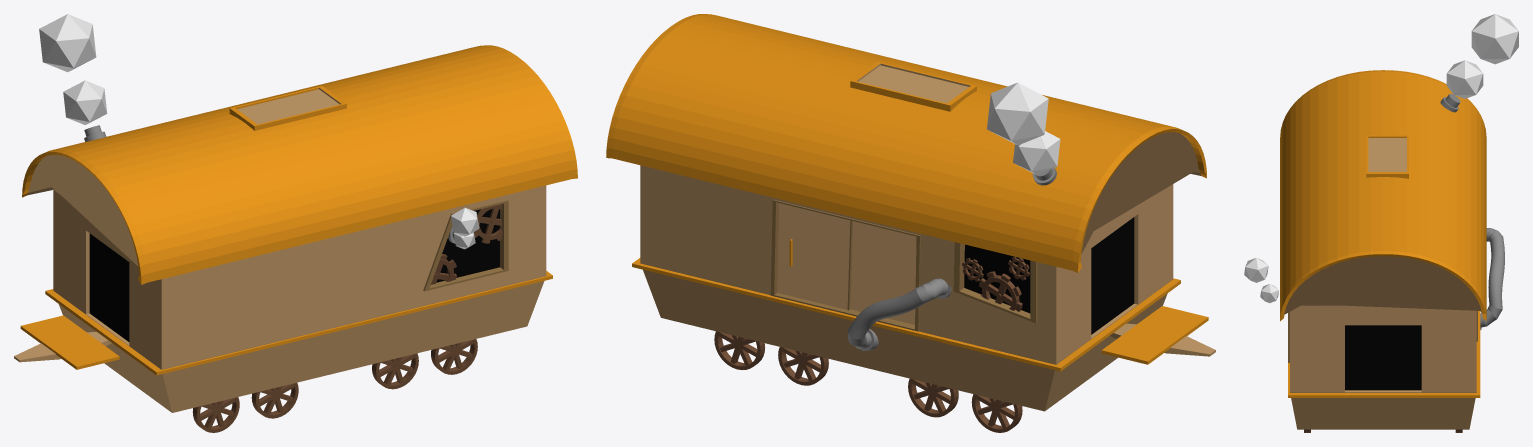
File: Train_car_2.fbx
The picture shows the model from 3 angles, left to right: view 1: azimuth 30°, elevation 25°; view 2: azimuth 150°, elevation 25°; view 3: azimuth 270°, elevation 25°; orthographic projection. The views are drawn at different scales.
Visible parts, largest first — view 1: Cube.007, Cube.028, Cube.025, Cube.013, Icosphere.015, Icosphere.014, Cylinder.069, Cylinder.021, Cylinder.066, Cylinder.063, Cube.014, Cylinder.051 (+1 smaller); view 2: Cube.007, Cube.028, Cube.025, Cube.013, Icosphere.015, Cylinder.109, Icosphere.014, Cylinder.062, Cylinder.067, Cylinder.068, Cylinder.061, Cylinder.087 (+1 smaller); view 3: Cube.007, Icosphere.015, Cube.025, Cylinder.109, Cube.028, Icosphere.014, Icosphere.008, Icosphere.009.
Boxes of the visible parts, bbox=[...] form: Cube.007: bbox=[22, 45, 577, 412]; Cube.028: bbox=[45, 271, 552, 375]; Cube.025: bbox=[229, 86, 346, 130]; Cube.013: bbox=[20, 315, 119, 369]; Icosphere.015: bbox=[39, 14, 96, 72]; Icosphere.014: bbox=[63, 80, 107, 124]; Cylinder.069: bbox=[251, 382, 298, 418]; Cylinder.021: bbox=[431, 339, 477, 374]; Cylinder.066: bbox=[192, 397, 239, 432]; Cylinder.063: bbox=[372, 353, 418, 389]; Cube.014: bbox=[14, 331, 111, 362]; Cylinder.051: bbox=[473, 204, 502, 243]; Cube.007: bbox=[606, 14, 1206, 411]; Cube.028: bbox=[632, 258, 1180, 371]; Cube.025: bbox=[850, 61, 976, 111]; Cube.013: bbox=[1101, 306, 1208, 364]; Icosphere.015: bbox=[987, 82, 1048, 145]; Cylinder.109: bbox=[848, 278, 951, 351]; Icosphere.014: bbox=[1013, 131, 1060, 174]; Cylinder.062: bbox=[778, 347, 828, 385]; Cylinder.067: bbox=[971, 394, 1022, 432]; Cylinder.068: bbox=[908, 378, 958, 417]; Cylinder.061: bbox=[714, 331, 765, 369]; Cylinder.087: bbox=[979, 271, 1022, 311]; Cube.007: bbox=[1280, 70, 1486, 429]; Icosphere.015: bbox=[1471, 14, 1518, 64]; Cube.025: bbox=[1366, 135, 1408, 178]; Cylinder.109: bbox=[1480, 228, 1504, 329]; Cube.028: bbox=[1288, 311, 1480, 397]; Icosphere.014: bbox=[1446, 60, 1483, 98]; Icosphere.008: bbox=[1244, 258, 1268, 282]; Icosphere.009: bbox=[1260, 284, 1278, 303].
Size of the model in its own units: 2345 by 1546 by 1284.
